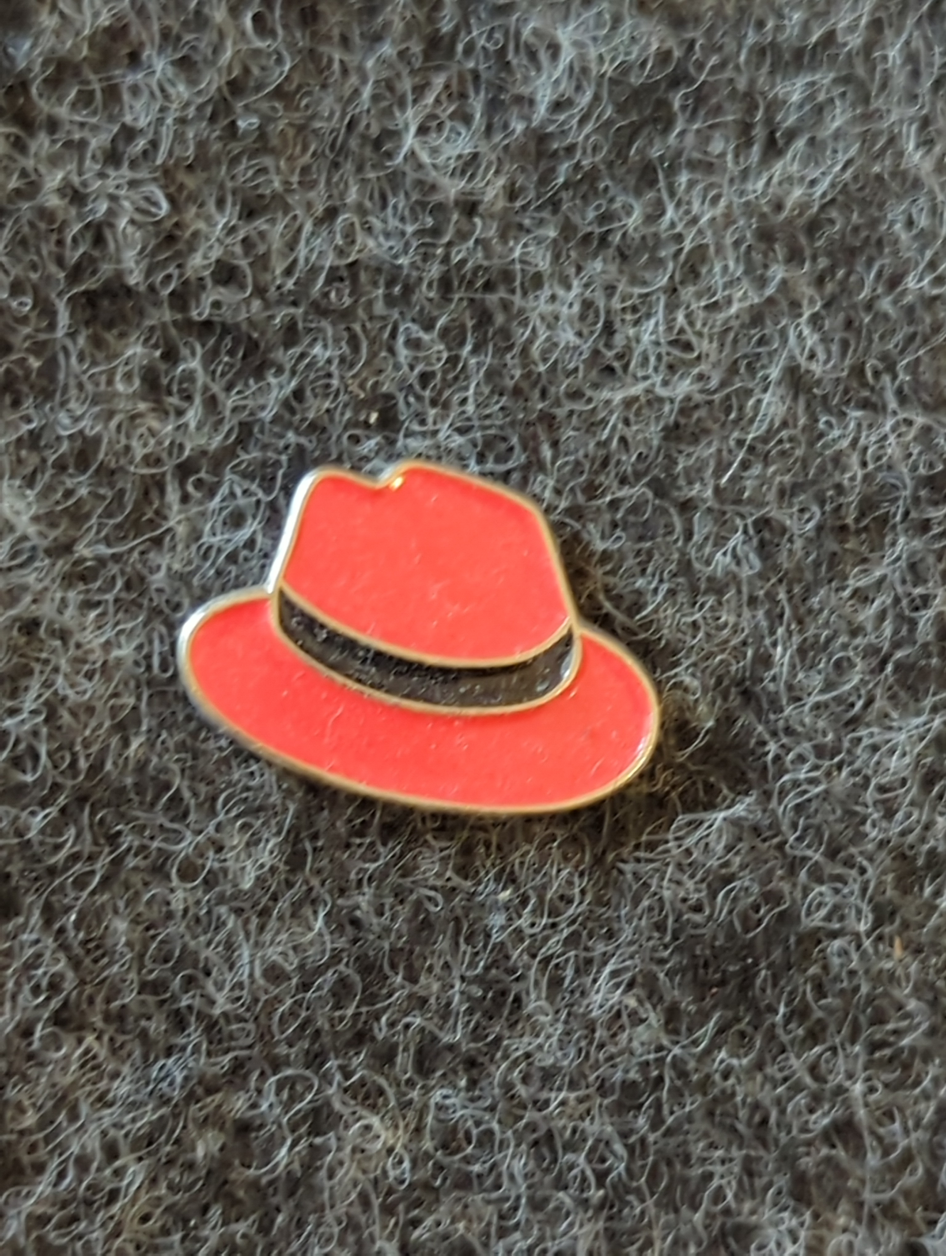Red-Hat: (87, 344, 868, 926)
